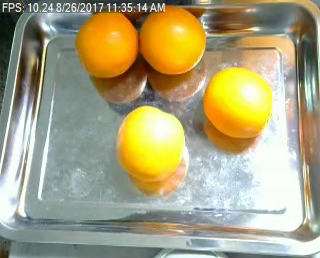Orange: (116, 106, 184, 180), (201, 67, 270, 139), (138, 7, 206, 74), (76, 11, 138, 78)
